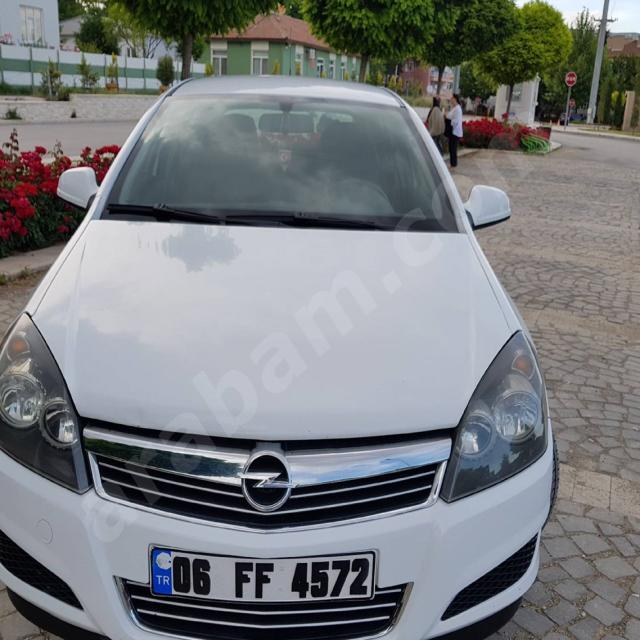license_plate: (147, 546, 375, 601)
